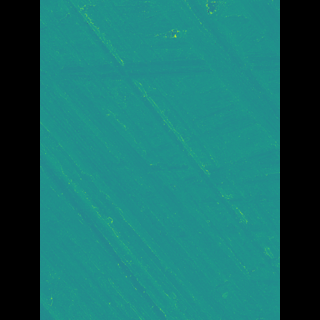Loch: (156, 0, 251, 153), (84, 58, 201, 87)
